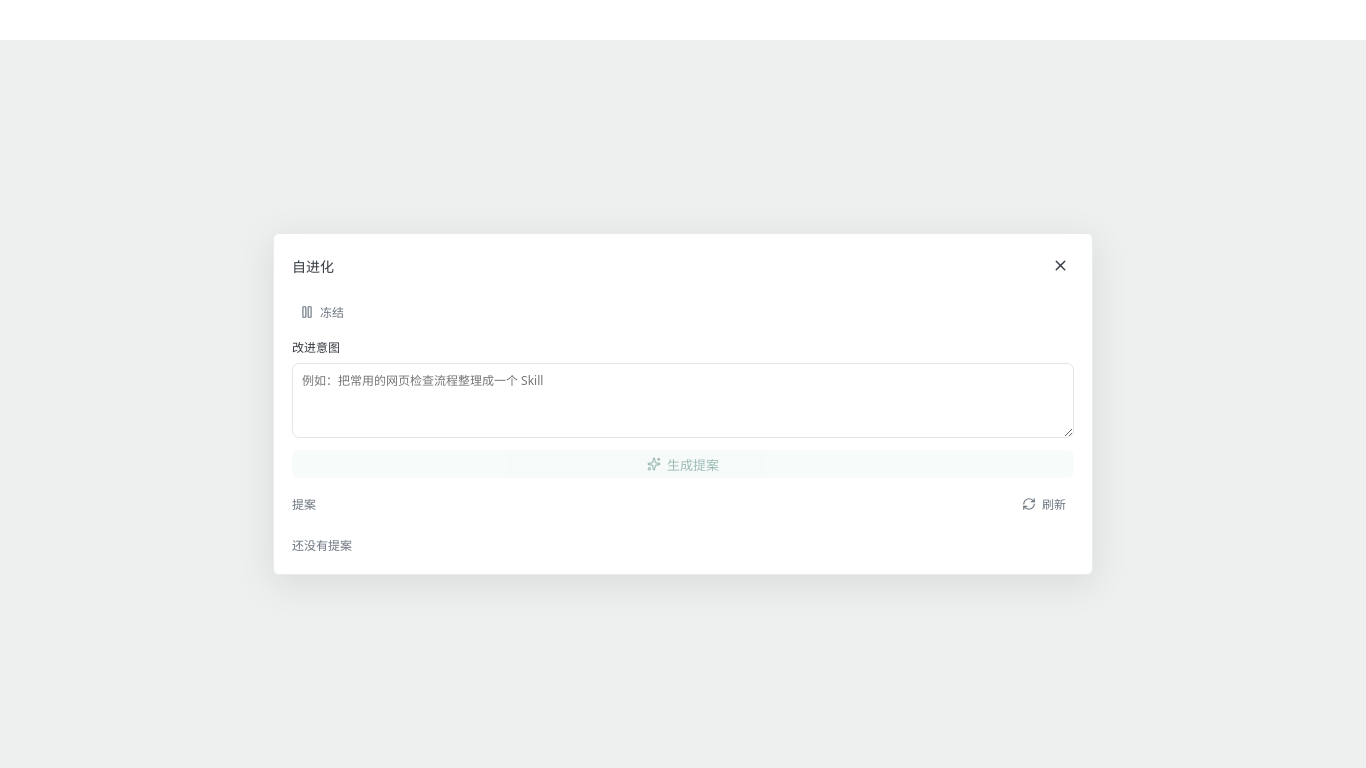
Test case: evolution review › starts in the background and keeps the running task visible
Expected: the text "还没有提案" is shown, 292,537 -> 352,554
Step 1. Type "添加 Skill" into the text box → (683,400), box 292,363 -> 1074,438
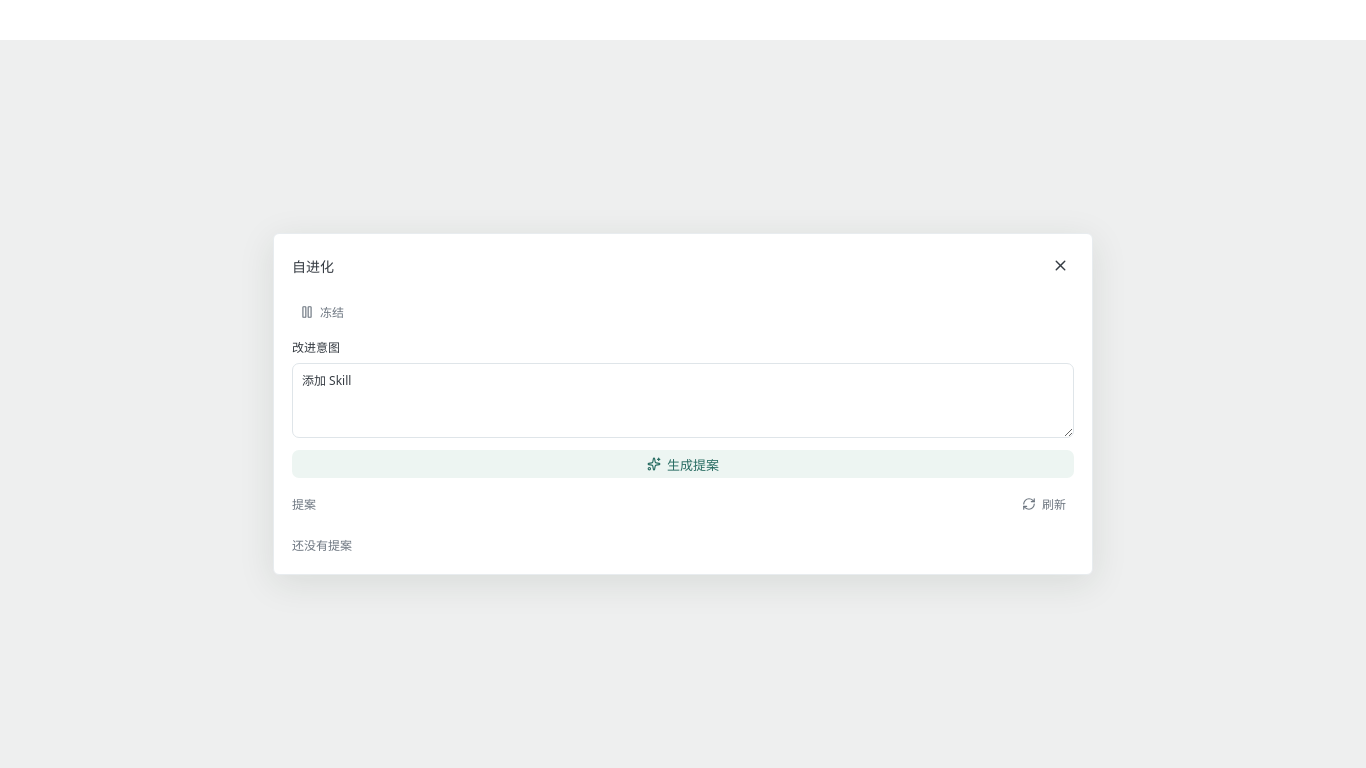
Step 2. Click the button "生成提案" → (683,464), box 292,450 -> 1074,478
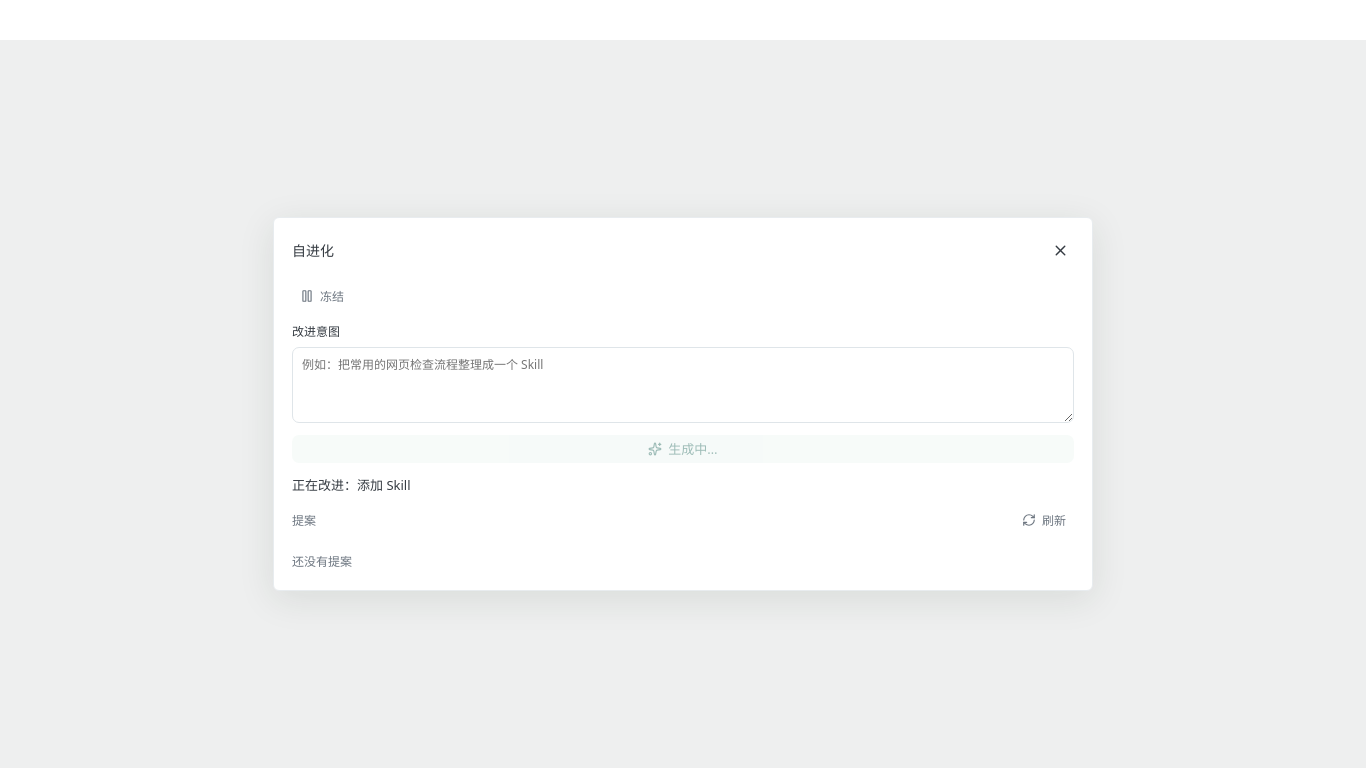
Expected: the text "正在改进：添加 Skill" is shown, 292,476 -> 410,494
Expected: the button "生成中…" is disabled, 292,434 -> 1074,462
